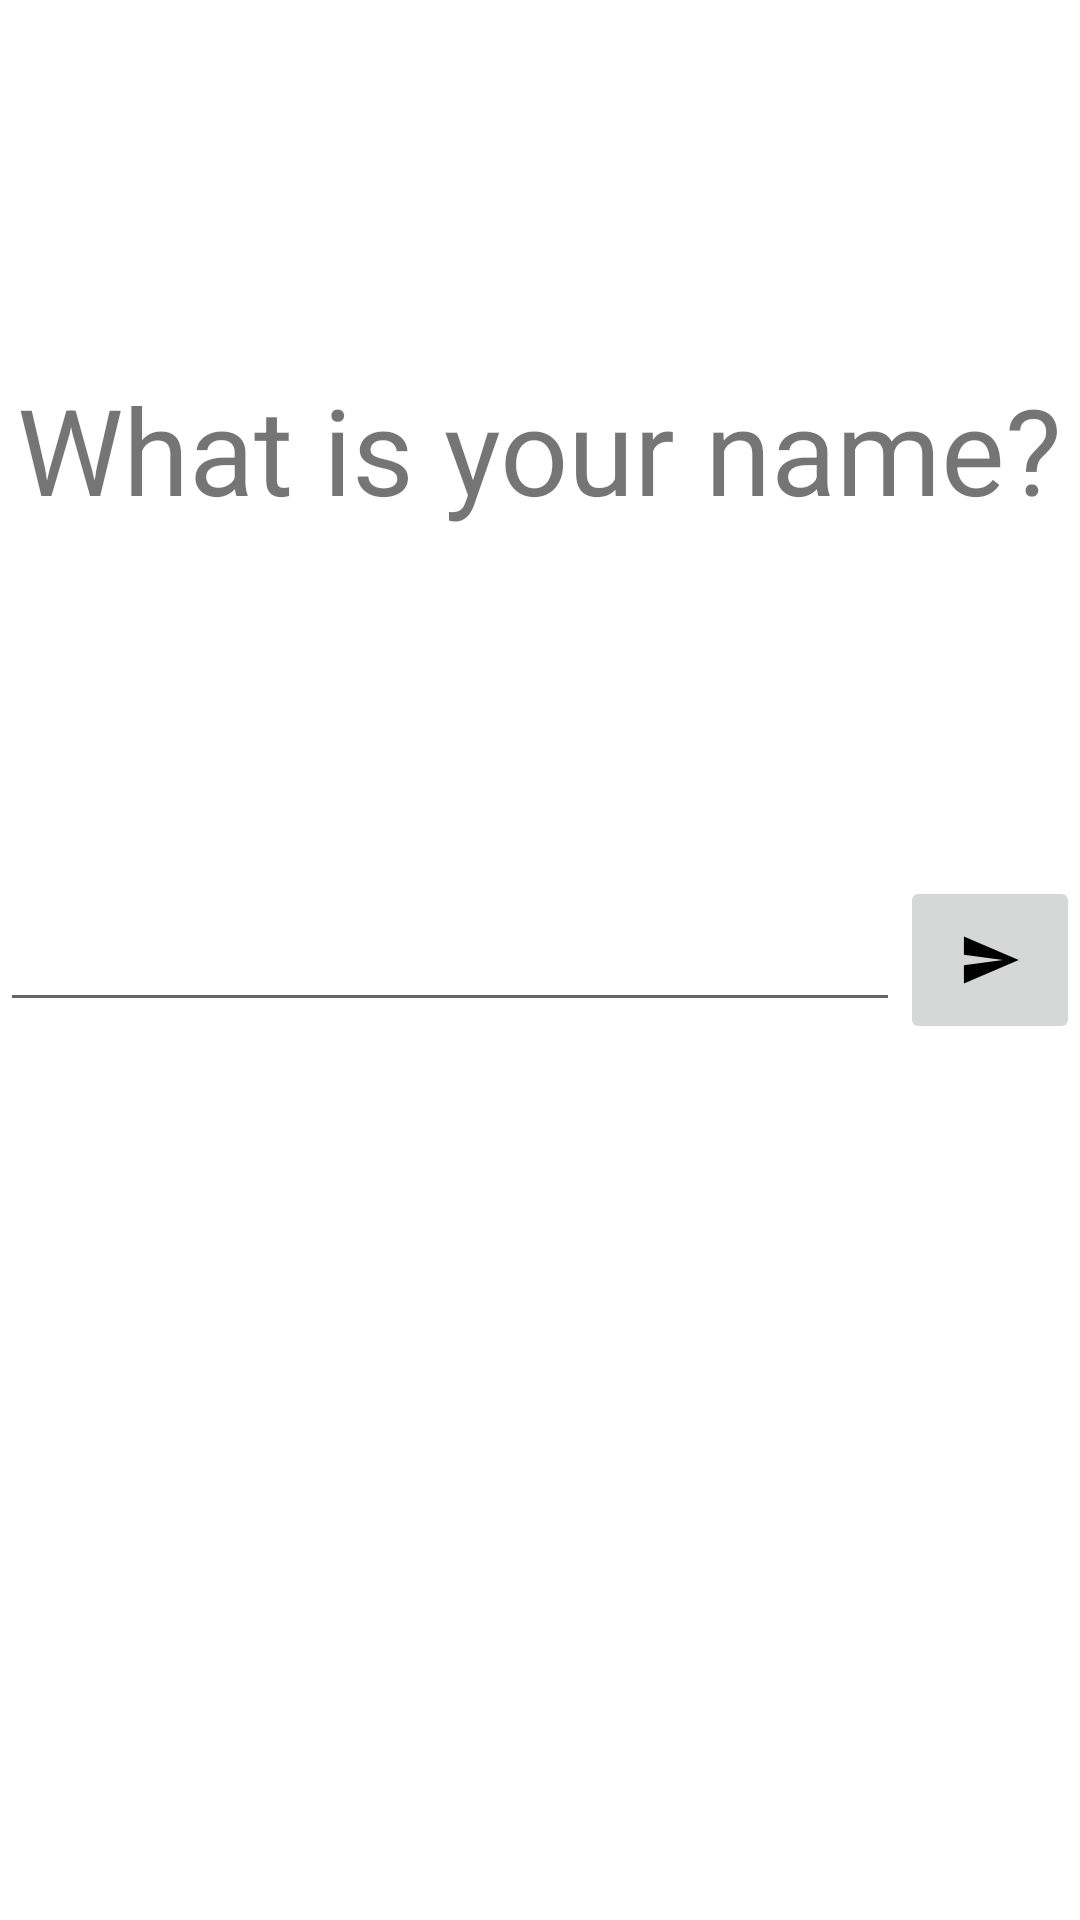

Named icons in this screenshot (1080×1920) and their bounding boxes, rect(x1, y1, x2, y2):
send: rect(912, 894, 1068, 1026)
